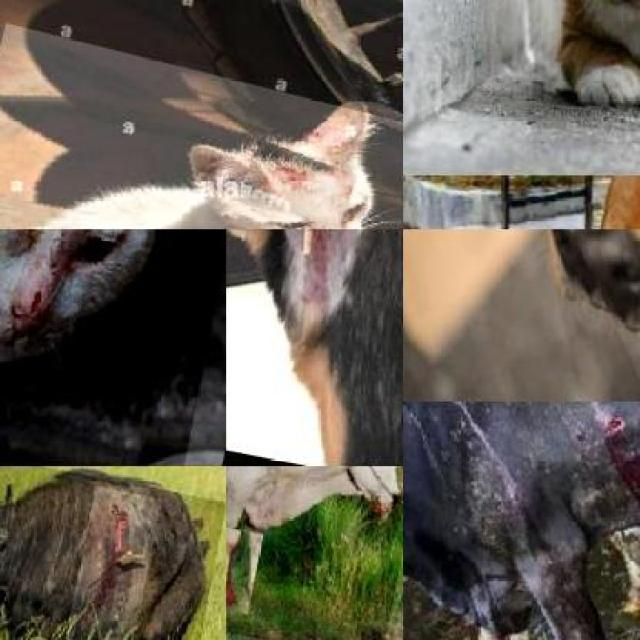buffalo: (0, 466, 225, 640)
cat: (0, 23, 403, 229), (0, 229, 226, 466), (532, 0, 640, 125)
cow: (403, 401, 640, 640), (226, 466, 403, 640), (403, 176, 640, 230)
dog: (226, 229, 403, 466), (486, 229, 640, 402)
injured: (226, 230, 379, 338), (65, 486, 160, 640), (238, 140, 358, 229), (226, 526, 262, 614), (612, 414, 640, 466)
